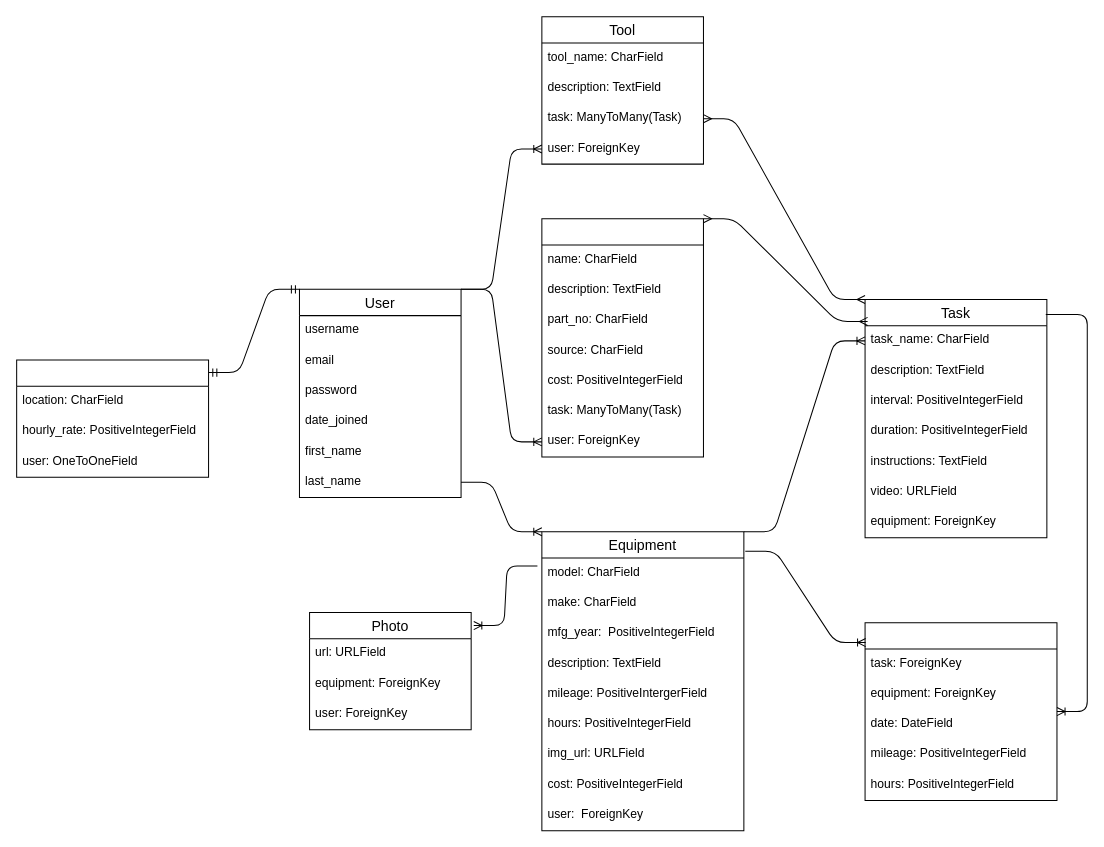
Image size: 1104x847. Some labels were removed from this diagram. Each missing label, with the box of its shape:
Consumable: (541, 218, 703, 457)
Maint_Record: (864, 622, 1057, 800)
Profile: (16, 359, 209, 477)
